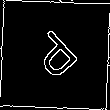P_SE: (25, 24, 85, 86)
